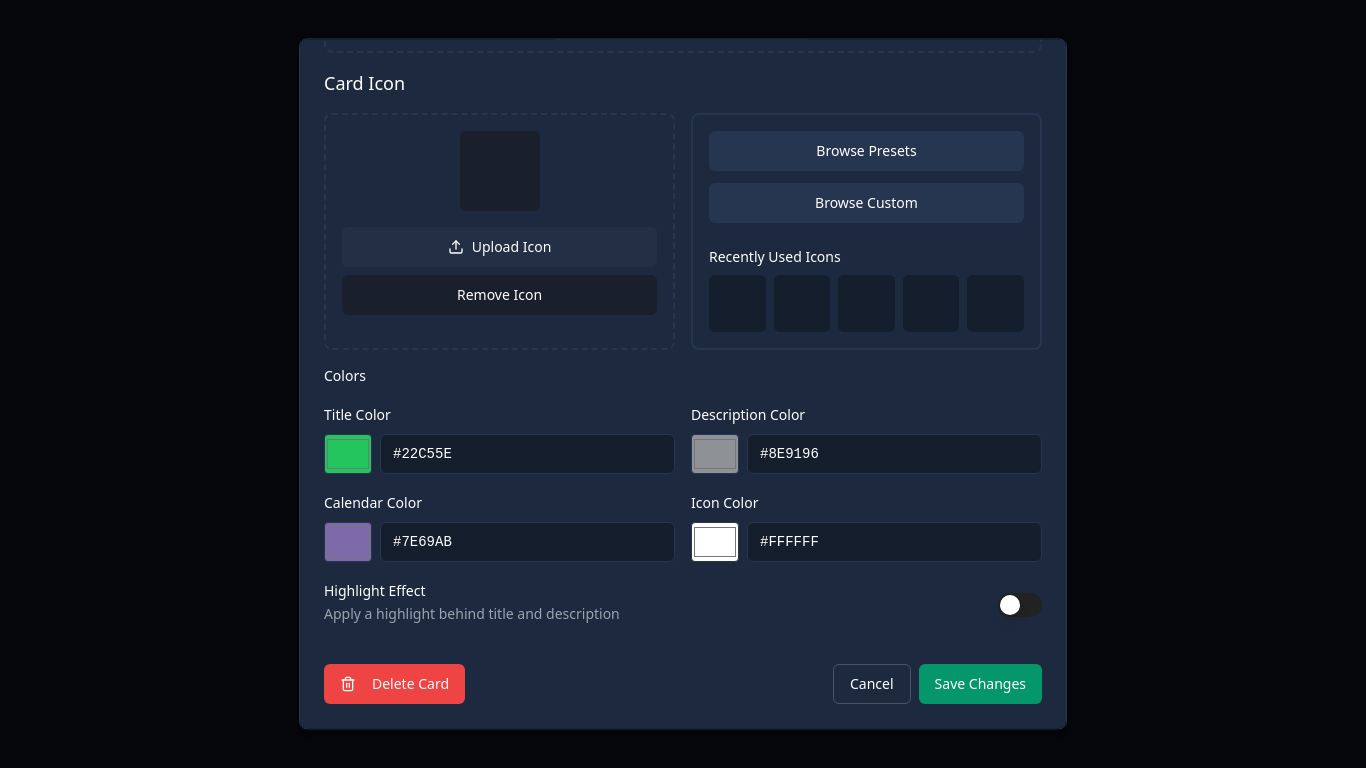
active personal card editor › blocks stale revision edits while keeping the draft visible
(page scrolled)
Click the button "Save Changes" at (980, 684), box x1=919 y1=664 x2=1042 y2=704
(page scrolled)
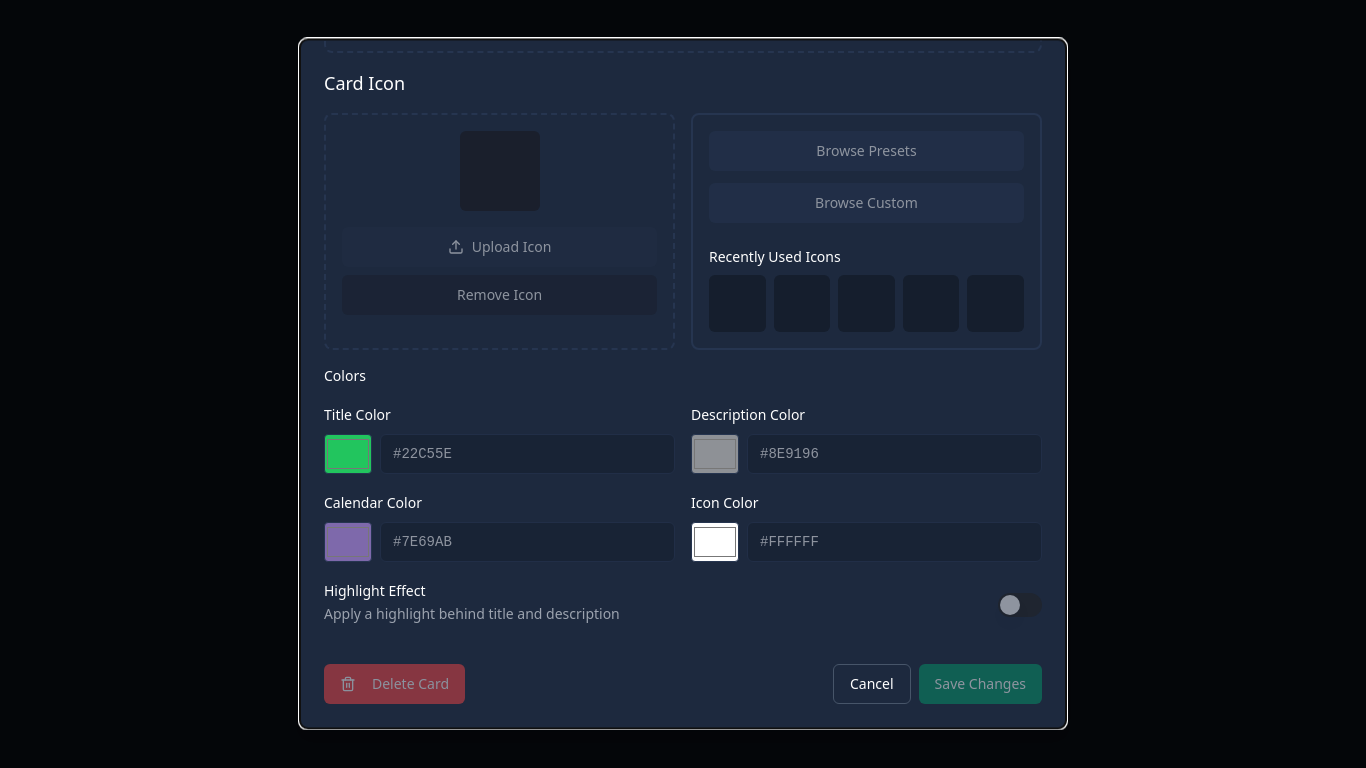
Expected: the button "Save Changes" is disabled, x1=919 y1=664 x2=1042 y2=704
